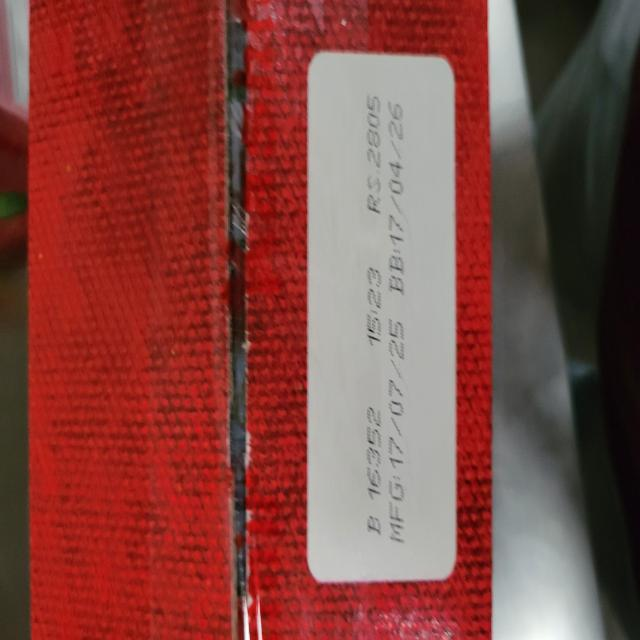BB: (387, 92, 407, 305)
Batch: (364, 402, 382, 538)
MFG: (388, 313, 410, 539)
RS: (363, 95, 382, 222)
TimeStamp: (365, 268, 383, 347)
